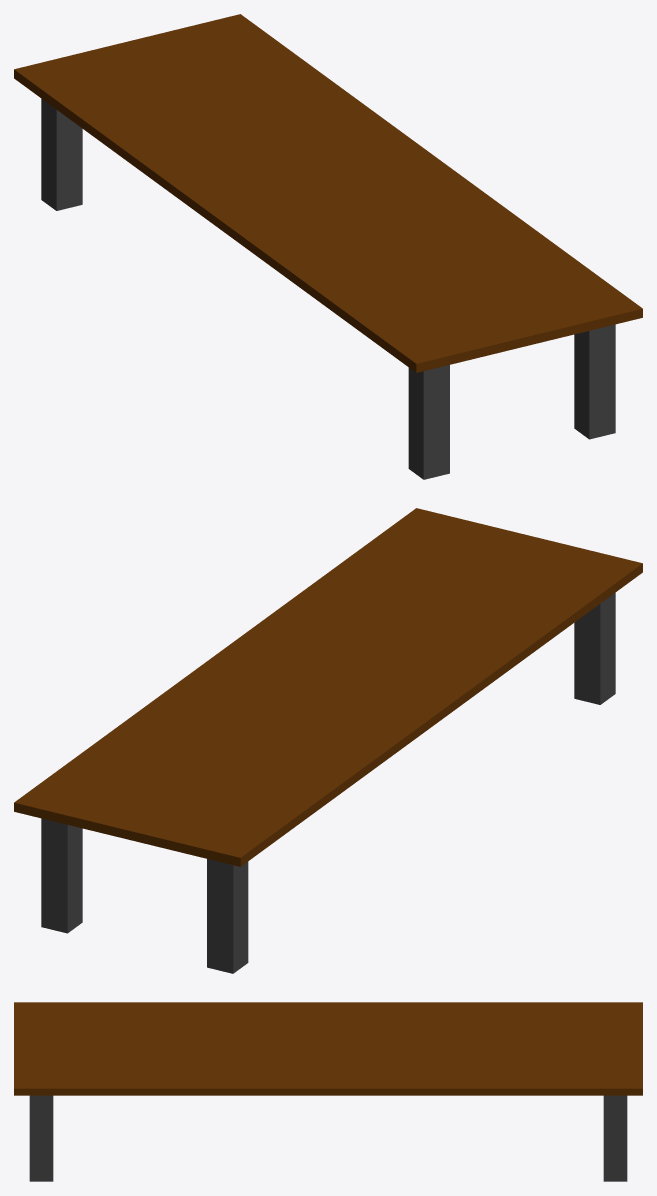
The model's file is Desk.obj.
3 views of the same model, one above another, from view 1: azimuth 30°, elevation 25°; view 2: azimuth 150°, elevation 25°; view 3: azimuth 270°, elevation 25° (orthographic). The views are drawn at different scales.
Visible parts, largest first — view 1: Desk; view 2: Desk; view 3: Desk.
Part boxes in pixels (bbox=[...]): Desk: bbox=[14, 14, 642, 479]; Desk: bbox=[14, 508, 642, 973]; Desk: bbox=[14, 1002, 642, 1181].
Size of the model in its own units: 26 by 14 by 80.
Materials: 1 (1 with a texture image).
